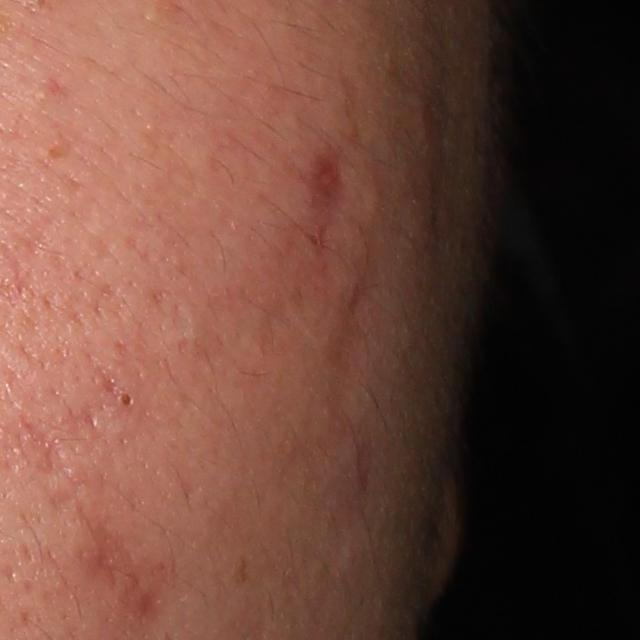atrophic_scar: (77, 518, 174, 638), (6, 410, 100, 474), (310, 149, 359, 218)
comedo: (117, 388, 136, 410)
